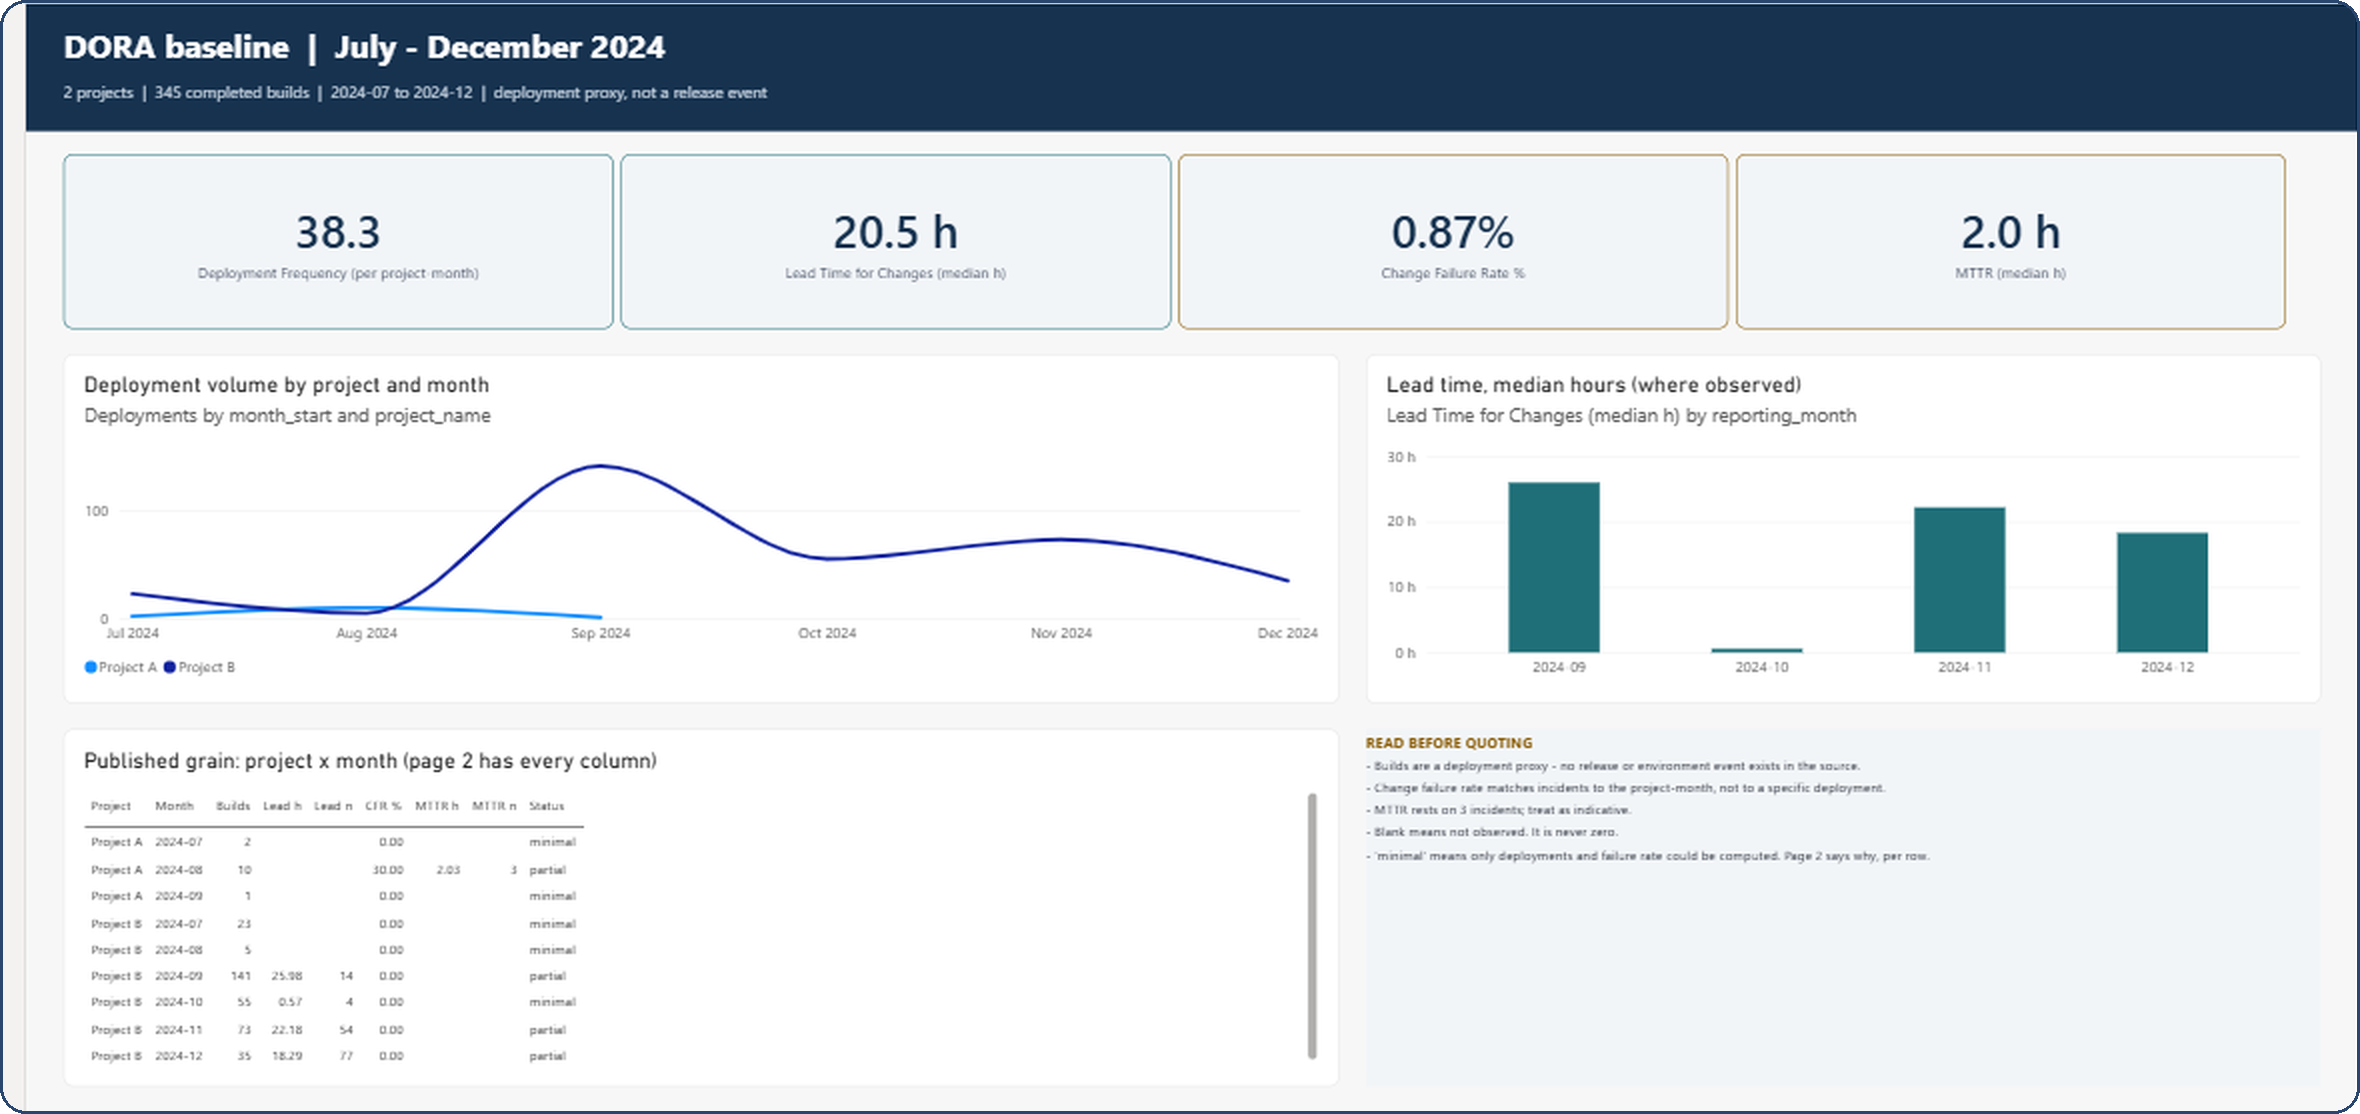

This screenshot's page, from the dashboard's own definition file:
{"tool":"powerbi","page":{"name":"DORA baseline","canvas":[1920,1080],"ordinal":0},"visuals":[{"type":"textbox","box":[0,0,1920,105],"z":0},{"type":"textbox","box":[30,16,1350,46],"z":1},{"type":"textbox","box":[30,62,1860,34],"z":2},{"type":"card","fields":{"Values":["DoraServiceMonth.Deployment Frequency (per project-month)"]},"box":[30,123,453,144],"z":10},{"type":"card","fields":{"Values":["DoraServiceMonth.Lead Time for Changes (median h)"]},"box":[489,123,453,144],"z":11},{"type":"card","fields":{"Values":["DoraServiceMonth.Change Failure Rate %"]},"box":[948,123,453,144],"z":12},{"type":"card","fields":{"Values":["DoraServiceMonth.MTTR (median h)"]},"box":[1407,123,453,144],"z":13},{"type":"lineChart","title":"Deployment volume by project and month","fields":{"Category":["DoraServiceMonth.month_start"],"Series":["DoraServiceMonth.project_name"],"Y":["DoraServiceMonth.Deployments"]},"box":[30,288,1050,288],"z":20},{"type":"columnChart","title":"Lead time, median hours (where observed)","fields":{"Category":["FactCommitLink.reporting_month"],"Y":["DoraServiceMonth.Lead Time for Changes (median h)"]},"box":[1104,288,786,288],"z":21},{"type":"tableEx","title":"Published grain: project x month (page 2 has every column)","fields":{"Values":["DoraServiceMonth.project_name","DoraServiceMonth.reporting_month","DoraServiceMonth.deployment_count","DoraServiceMonth.lead_time_median_hours","DoraServiceMonth.lead_time_sample_size","DoraServiceMonth.change_failure_rate_pct","DoraServiceMonth.mttr_median_hours","DoraServiceMonth.mttr_sample_size","DoraServiceMonth.data_quality_status"]},"box":[30,597,1050,294],"z":22},{"type":"textbox","box":[1104,597,786,294],"z":23},{"type":"textbox","box":[30,909,1860,40],"z":24}]}

Visuals, with their boxes on the page's 1920x1080 design canvas (x1, y1, x2, y2). These are canvas units, not pixel positions in the 2360x1114 screenshot, which may show the page scaled, cropped or inside an application window:
textbox: Rect(0, 0, 1920, 105)
textbox: Rect(30, 16, 1380, 62)
textbox: Rect(30, 62, 1890, 96)
card - DoraServiceMonth.Deployment Frequency (per project-month): Rect(30, 123, 483, 267)
card - DoraServiceMonth.Lead Time for Changes (median h): Rect(489, 123, 942, 267)
card - DoraServiceMonth.Change Failure Rate %: Rect(948, 123, 1401, 267)
card - DoraServiceMonth.MTTR (median h): Rect(1407, 123, 1860, 267)
"Deployment volume by project and month" lineChart: Rect(30, 288, 1080, 576)
"Lead time, median hours (where observed)" columnChart: Rect(1104, 288, 1890, 576)
"Published grain: project x month (page 2 has every column)" tableEx: Rect(30, 597, 1080, 891)
textbox: Rect(1104, 597, 1890, 891)
textbox: Rect(30, 909, 1890, 949)
